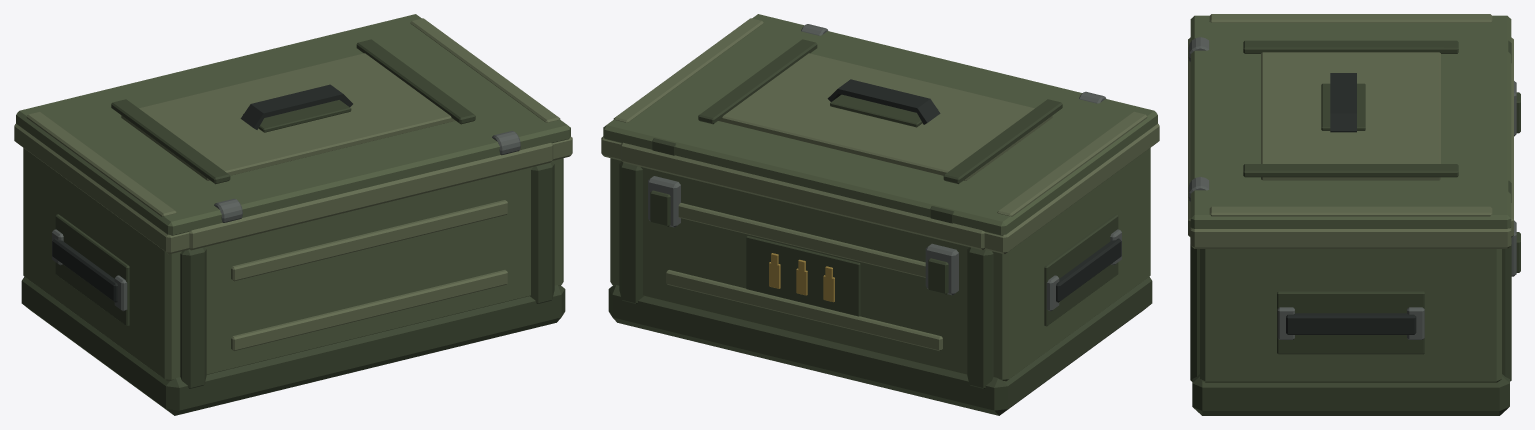
Rendered from ammo.glb.
3 views of the same model, side by side, from view 1: azimuth 30°, elevation 25°; view 2: azimuth 150°, elevation 25°; view 3: azimuth 270°, elevation 25° (orthographic). The views are drawn at different scales.
Parts seen in each view (by area): view 1: Crate, Lid; view 2: Crate, Lid; view 3: Lid, Crate.
Boxes of the visible parts, x1,y1,x2,y2 form: Crate: (14, 124, 572, 415); Lid: (16, 14, 570, 235); Crate: (601, 124, 1159, 415); Lid: (603, 14, 1157, 235); Lid: (1188, 14, 1511, 228); Crate: (1188, 37, 1520, 415).
Size of the model in its own units: 0.542 by 0.2709 by 0.3605.
